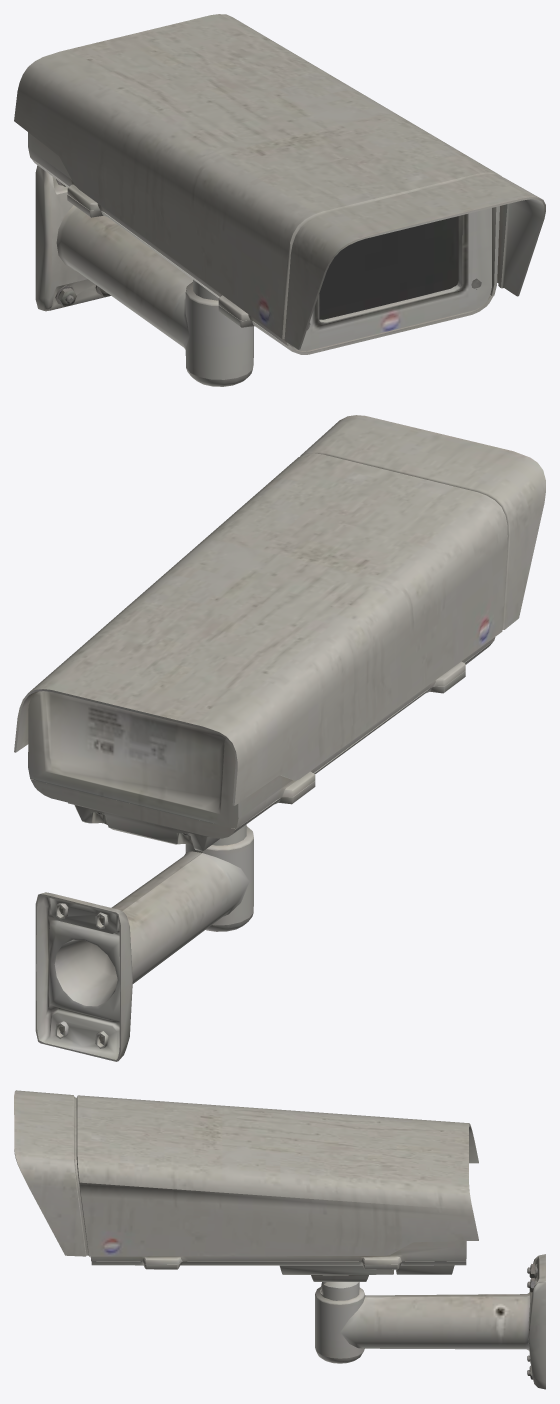
File: security_camera_02.glb
3 views of the same model, one above another, from view 1: azimuth 30°, elevation 25°; view 2: azimuth 150°, elevation 25°; view 3: azimuth 270°, elevation 25° (orthographic). The views are drawn at different scales.
Visible parts, largest first — view 1: security_camera_02, security_camera_02_mount; view 2: security_camera_02, security_camera_02_mount; view 3: security_camera_02, security_camera_02_mount.
Part boxes in pixels (x1,y1,x2,y2): security_camera_02: [14, 14, 545, 354]; security_camera_02_mount: [35, 165, 253, 386]; security_camera_02: [14, 415, 545, 851]; security_camera_02_mount: [35, 824, 253, 1061]; security_camera_02: [14, 1090, 478, 1294]; security_camera_02_mount: [315, 1254, 545, 1389].
Size of the model in its own units: 0.1406 by 0.2083 by 0.3937.
Materials: 2 (2 with a texture image).
